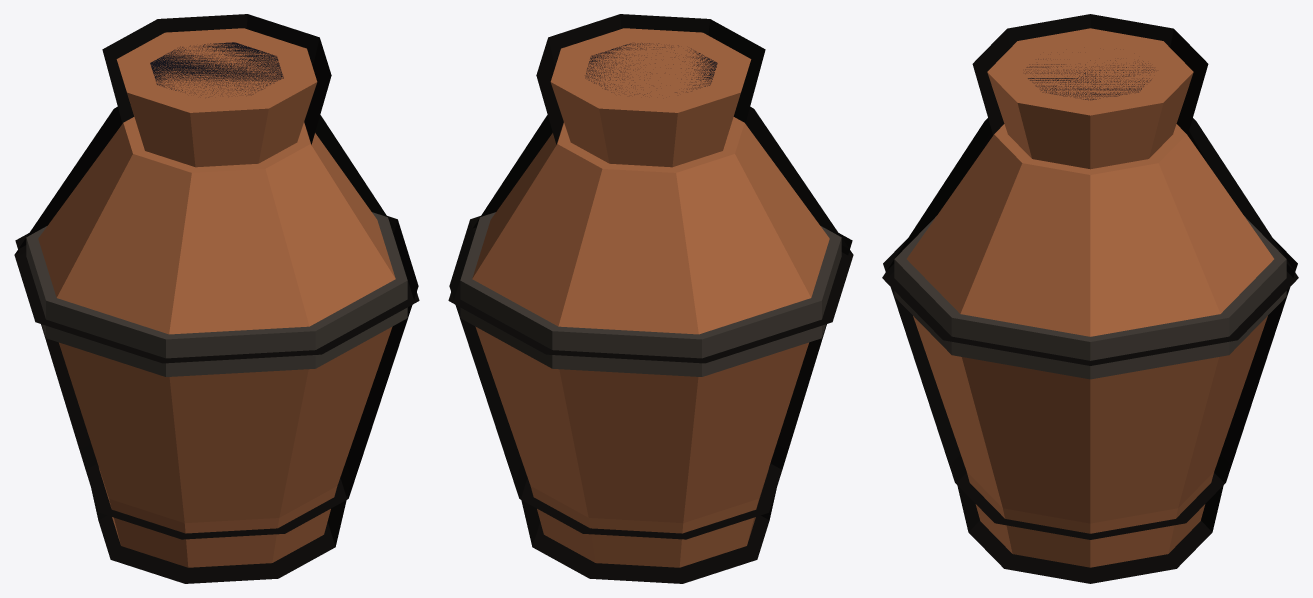
File: urn.glb
The picture shows the model from 3 angles, left to right: view 1: azimuth 30°, elevation 25°; view 2: azimuth 150°, elevation 25°; view 3: azimuth 270°, elevation 25°; orthographic projection.
Parts seen in each view (by area): view 1: Prop_dq_urn; view 2: Prop_dq_urn; view 3: Prop_dq_urn.
Boxes of the visible parts, left/top/right/bottom form: Prop_dq_urn: left=14, top=14, right=419, bottom=583; Prop_dq_urn: left=448, top=14, right=853, bottom=583; Prop_dq_urn: left=882, top=14, right=1298, bottom=583.
Size of the model in its own units: 0.6056 by 0.7509 by 0.6056.
